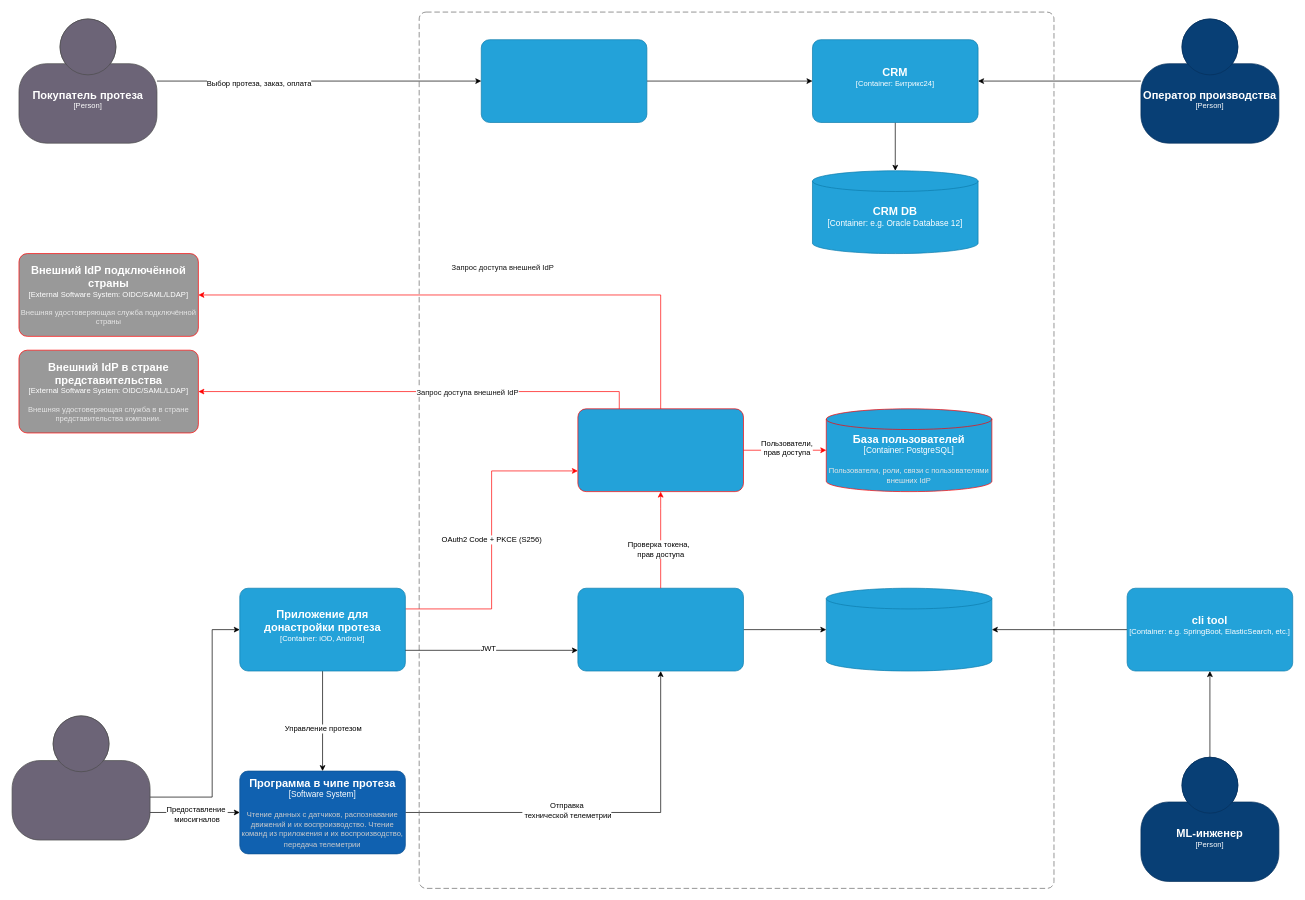
The diagram is 1305 pixels wide and 900 high, and some of its shapes have lost their labels. The box of each missing label's shape, as (x1, y1, x2, y2) in pixels:
API [Container: e.g. SpringBoot, ElasticSearch, etc.]: (577, 588, 743, 671)
BionicPRO [Software System]: (418, 11, 1054, 888)
Keycloak [Container: IdP / IAM] SSO, брокер IdP, LDAP, PKCE для клиентов: (577, 408, 743, 492)
База данных [Container: PostgreSQL]: (826, 588, 992, 671)
Интернет-магазин [Container: Битрикс24]: (481, 39, 647, 122)
Пилот протеза [Person] С этого человека считываются данные: (11, 715, 150, 840)
